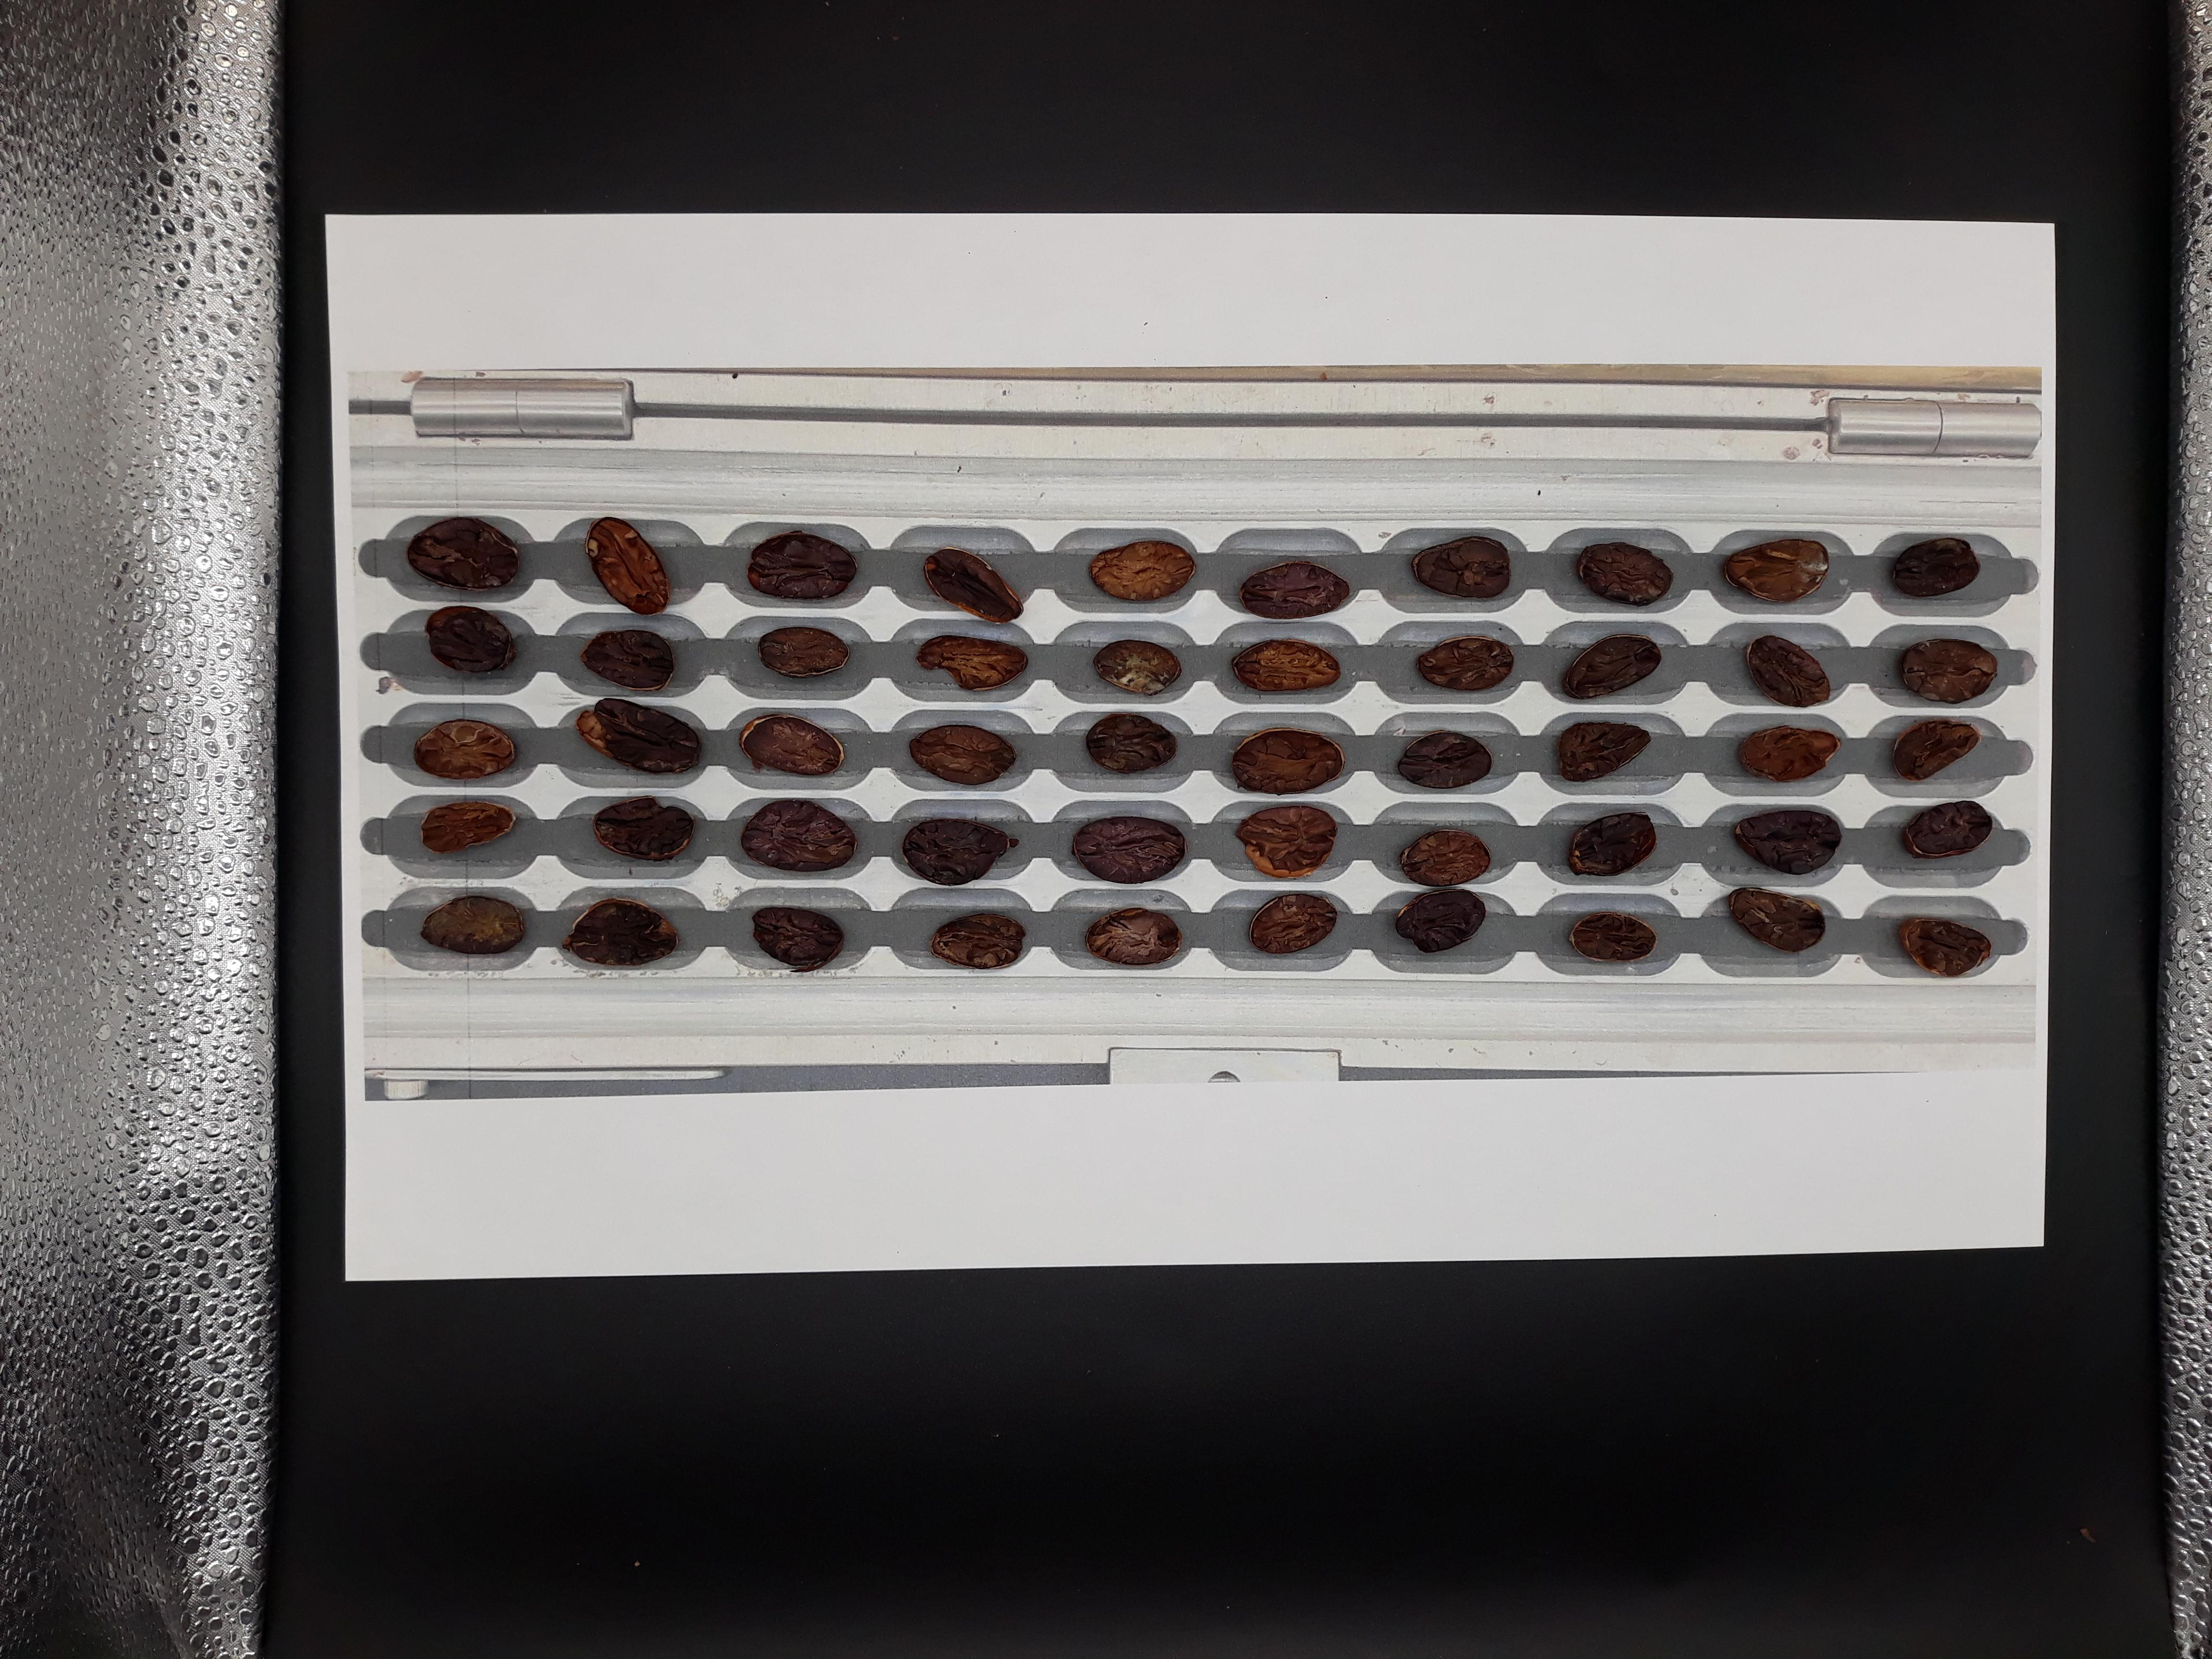Brown - G1: (282, 1089, 341, 1143), (611, 1234, 671, 1276), (700, 1147, 756, 1183), (460, 1284, 512, 1321), (207, 1232, 261, 1262)
Brown - G2: (453, 1148, 516, 1182), (770, 1190, 824, 1229), (941, 1288, 993, 1326), (608, 1150, 671, 1182), (206, 1190, 261, 1225), (860, 1194, 916, 1229), (618, 1279, 667, 1316)
Brown - G3: (606, 1195, 674, 1236), (536, 1100, 601, 1138), (779, 1100, 836, 1141), (860, 1150, 916, 1192), (939, 1150, 996, 1190), (932, 1190, 991, 1229), (853, 1274, 909, 1314), (449, 1194, 507, 1232), (538, 1283, 592, 1321), (691, 1243, 745, 1279)
Brown - G4: (371, 1145, 428, 1176)
Insect-damaged: (207, 1276, 266, 1316)
Mouldy: (852, 1101, 911, 1140), (535, 1150, 594, 1187)
Partly Purple - G1: (289, 1229, 352, 1267), (284, 1147, 341, 1183)
Partly Purple - G2: (366, 1229, 428, 1276), (368, 1098, 430, 1141)
Partly Purple - G3: (615, 1112, 676, 1147)
Partly Purple - G4: (364, 1187, 427, 1227)
Total Purple - G3: (444, 1237, 514, 1281), (526, 1236, 596, 1277), (686, 1276, 747, 1312), (942, 1232, 993, 1267)
Very Dark Brown - G1: (282, 1178, 354, 1227), (204, 1133, 263, 1176), (277, 1281, 341, 1319), (775, 1284, 827, 1319)
Very Dark Brown - G2: (451, 1107, 517, 1148), (200, 1091, 263, 1133), (853, 1236, 920, 1272), (369, 1281, 425, 1321), (937, 1096, 986, 1141), (772, 1237, 831, 1272), (535, 1187, 587, 1223)
Very Dark Brown - G3: (768, 1145, 829, 1188), (695, 1098, 759, 1138), (691, 1194, 745, 1232)
